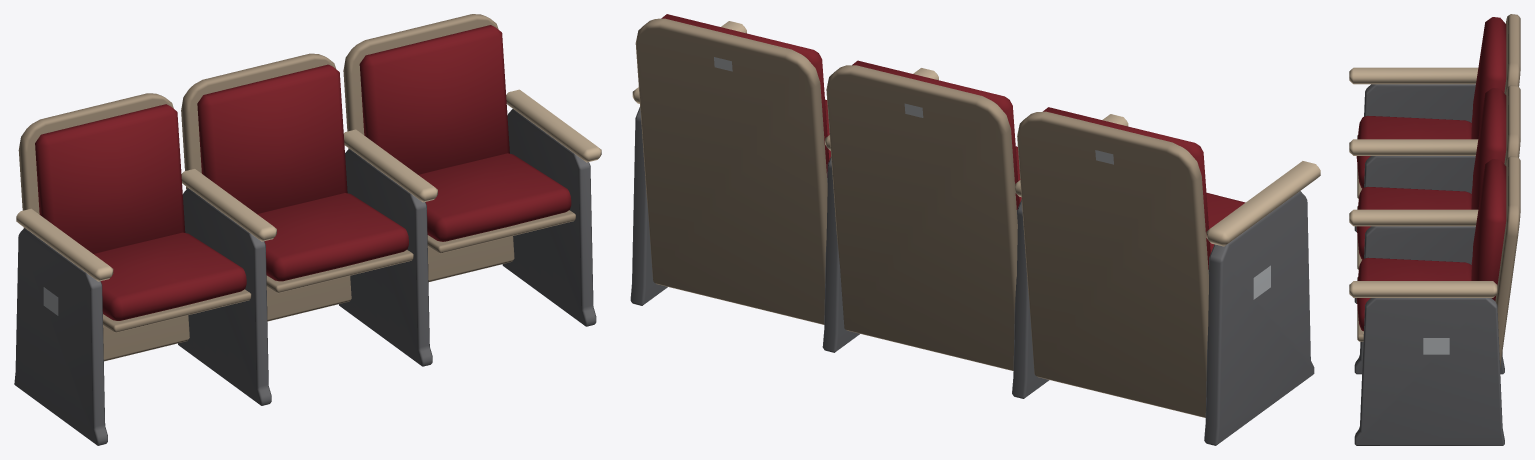
Rendered from seat_row.glb.
3 views of the same model, side by side, from view 1: azimuth 30°, elevation 25°; view 2: azimuth 150°, elevation 25°; view 3: azimuth 270°, elevation 25° (orthographic). The views are drawn at different scales.
Parts seen in each view (by area): view 1: theater_seat_row; view 2: theater_seat_row; view 3: theater_seat_row.
Boxes of the visible parts, box(x1,y1,x2,y2) form: theater_seat_row: box(14, 14, 601, 445); theater_seat_row: box(630, 14, 1320, 445); theater_seat_row: box(1349, 14, 1520, 445).
Bounding box in the file's own units: 1.99 × 0.9482 × 0.6482.
